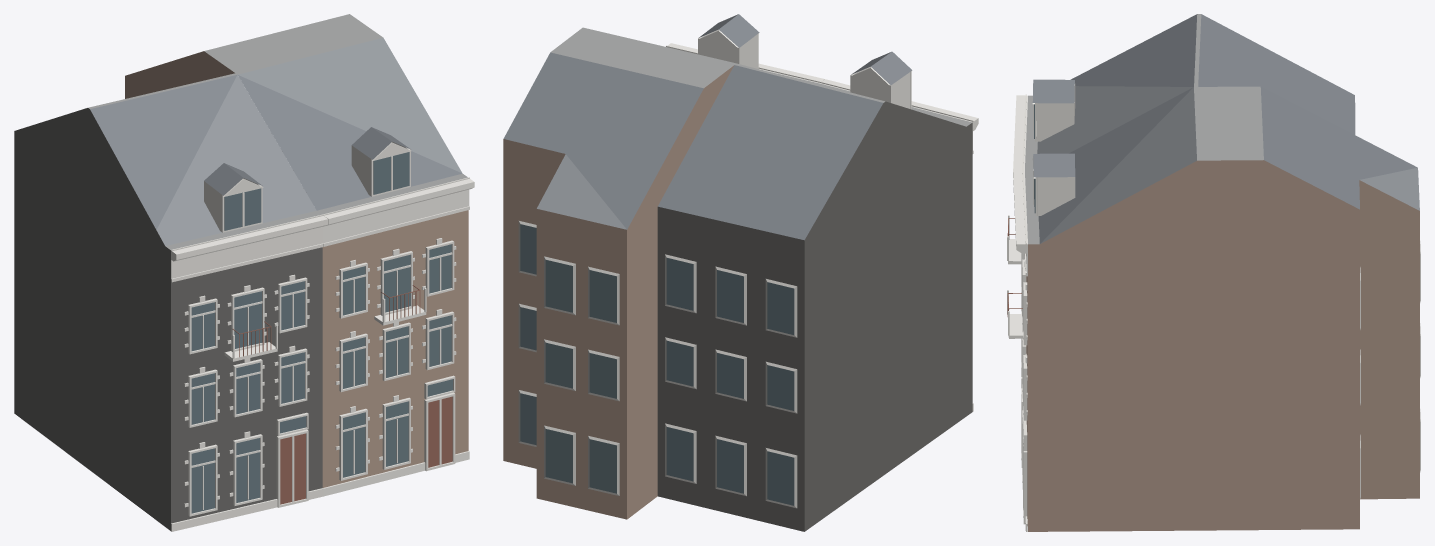
The model's file is chunk-face-helmers-108-174-r1.glb.
3 renders of one model, left to right at view 1: azimuth 30°, elevation 25°; view 2: azimuth 150°, elevation 25°; view 3: azimuth 270°, elevation 25°, orthographic. The views are drawn at different scales.
Visible parts, largest first — view 1: face-helmers-108-174-r1; view 2: face-helmers-108-174-r1; view 3: face-helmers-108-174-r1.
Boxes of the visible parts, x1,y1,x2,y2 form: face-helmers-108-174-r1: [14, 14, 474, 531]; face-helmers-108-174-r1: [503, 14, 978, 531]; face-helmers-108-174-r1: [1007, 14, 1420, 531].
Size of the model in its own units: 12.01 by 13.9 by 14.1.
